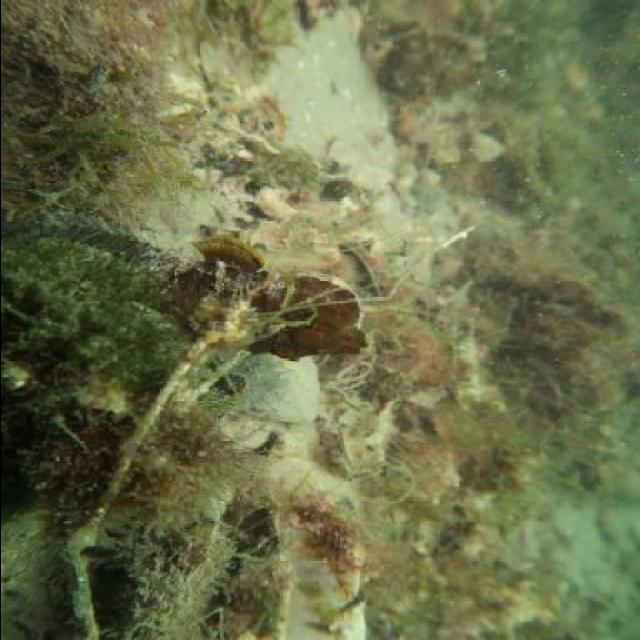Hippo: (240, 304, 378, 374)
